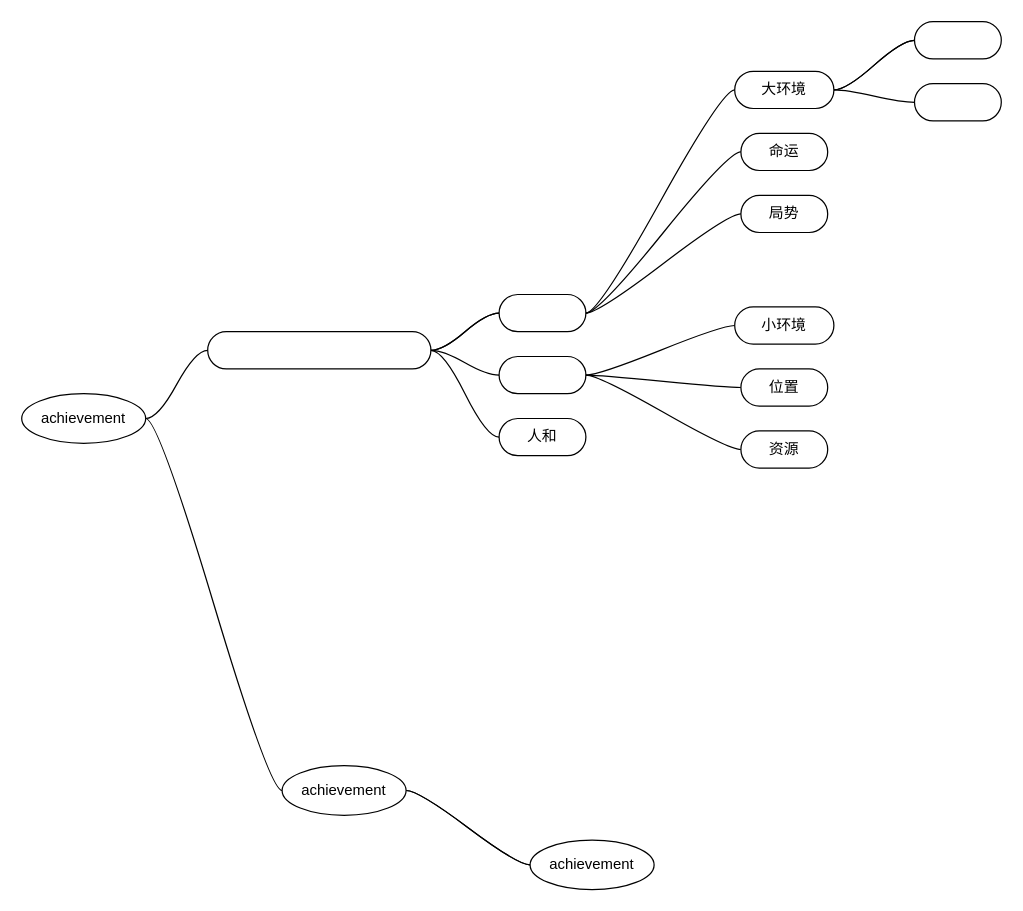
Some shapes in this 1023 by 911 pixel diagram are drawn without their labels. Here are the shapes that lost their labels. From the top down, the box of each, then its label:
(913, 20, 1001, 59): 政治
(913, 82, 1001, 121): 人文
(498, 293, 586, 332): 天时
(206, 330, 431, 369): 某一时刻/关键事项的结果
(498, 355, 586, 394): 地利
